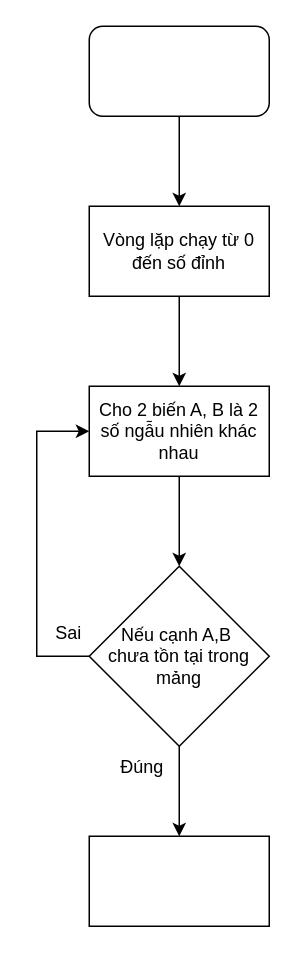
Some shapes in this 296 by 953 pixel diagram are drawn without their labels. Each missing label, with the box of its shape:
Bắt đầu thêm cạnh: (88, 25, 269, 116)
Thêm 2 cạnh A, B đó vào mảng cacCanh: (88, 835, 269, 926)
